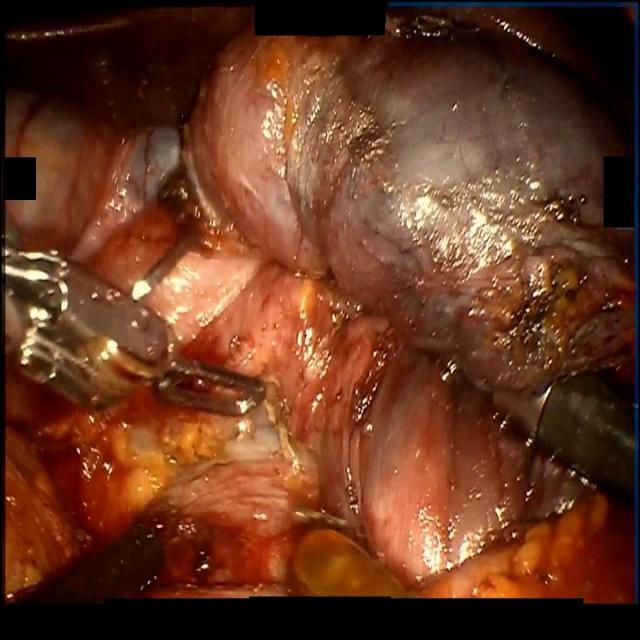surgical-area: (2, 1, 638, 605)
surgical-tool: (4, 222, 266, 413), (466, 369, 638, 513)
